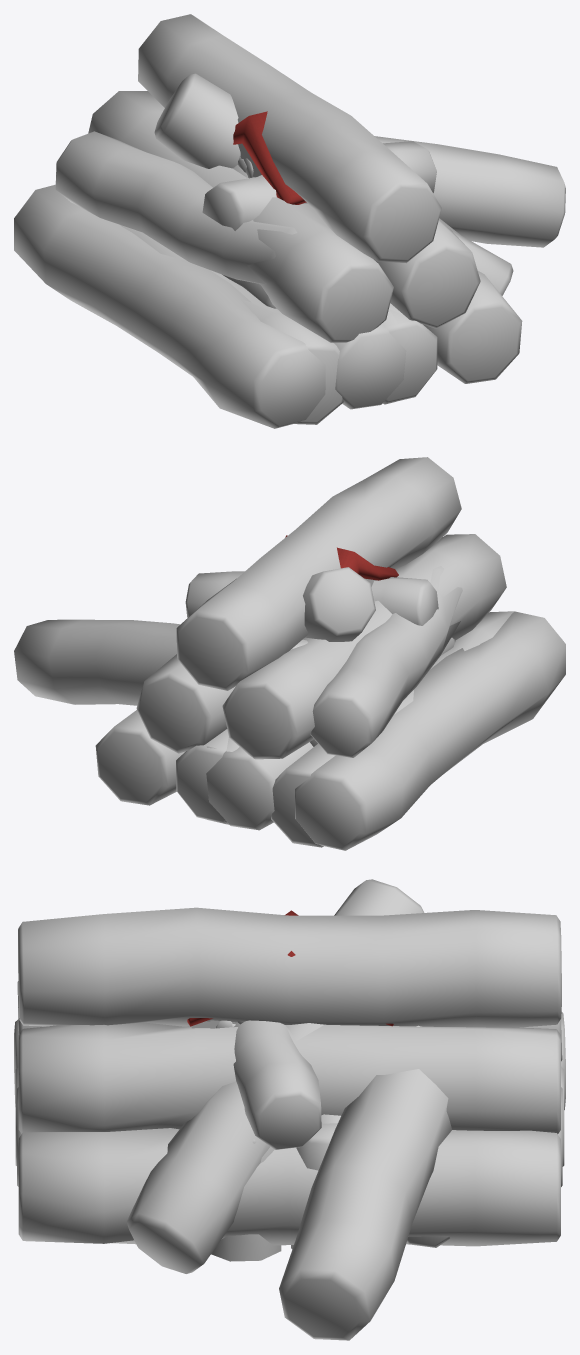
Rendered from logs.fbx.
3 renders of one model, top to bottom at view 1: azimuth 30°, elevation 25°; view 2: azimuth 150°, elevation 25°; view 3: azimuth 270°, elevation 25°, orthographic. The views are drawn at different scales.
Parts seen in each view (by area): view 1: Log4.001, Log3.001, Log1.002, Log2.001, cloth.002; view 2: Log4.001, Log3.001, Log1.002, Log2.001, cloth.002; view 3: Log3.001, Log4.001, Log1.002, Log6.001.
Boxes of the visible parts, x1=… form: Log4.001: x1=14, y1=73, x2=565, y2=428; Log3.001: x1=88, y1=14, x2=522, y2=424; Log1.002: x1=202, y1=141, x2=436, y2=308; Log2.001: x1=384, y1=309, x2=437, y2=403; cloth.002: x1=233, y1=111, x2=306, y2=204; Log4.001: x1=14, y1=566, x2=565, y2=850; Log3.001: x1=95, y1=457, x2=514, y2=847; Log1.002: x1=185, y1=571, x2=455, y2=746; Log2.001: x1=176, y1=729, x2=228, y2=823; cloth.002: x1=285, y1=535, x2=398, y2=580; Log3.001: x1=17, y1=907, x2=562, y2=1246; Log4.001: x1=14, y1=879, x2=565, y2=1340; Log1.002: x1=211, y1=1020, x2=337, y2=1261; Log6.001: x1=321, y1=1114, x2=449, y2=1247.
Bounding box in the file's own units: 364 × 206 × 413.
